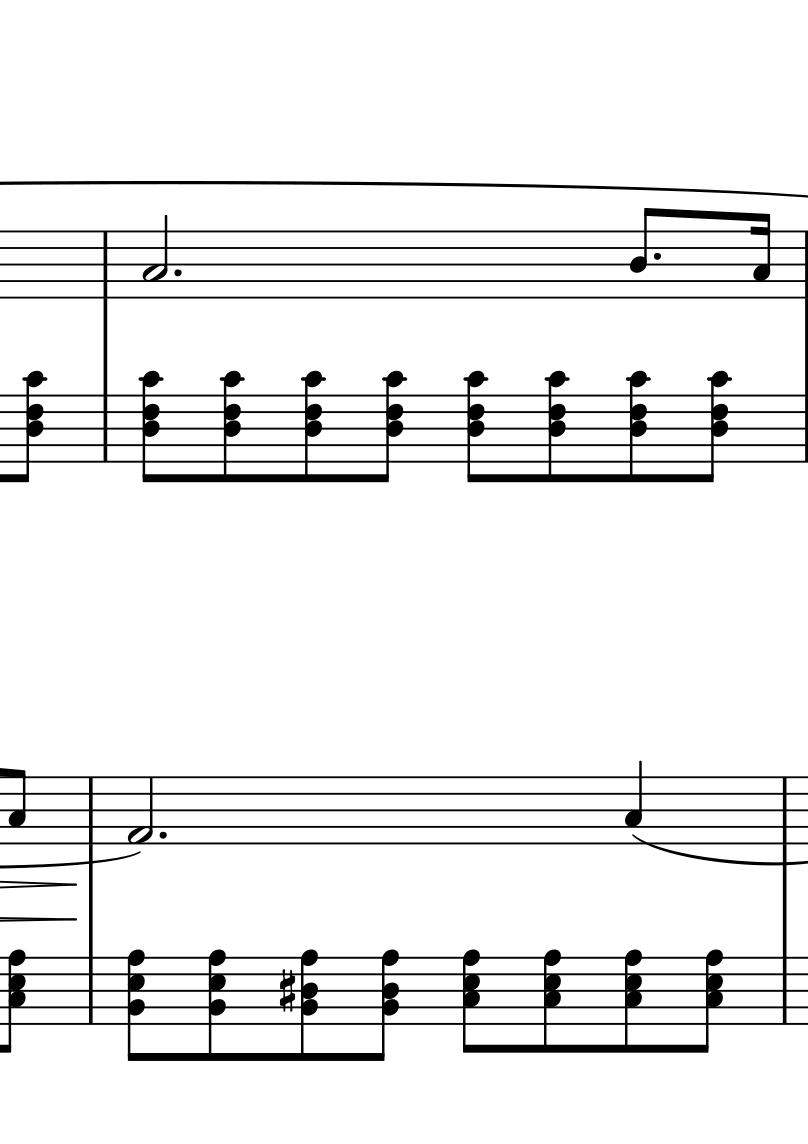16_3: (748, 211, 775, 300)
2_1: (128, 774, 157, 847)
2_3: (140, 214, 169, 298)
4_3: (622, 758, 646, 847)
8_4: (628, 206, 658, 300)
8_th: (9, 367, 49, 483), (700, 365, 735, 489), (297, 366, 333, 485), (690, 943, 726, 1058), (374, 366, 409, 483), (542, 367, 577, 482), (372, 947, 406, 1062), (461, 365, 493, 485), (622, 369, 655, 484), (216, 366, 248, 483), (206, 945, 234, 1064), (538, 946, 569, 1053), (619, 944, 648, 1057), (1, 947, 30, 1059), (459, 946, 488, 1056), (137, 369, 165, 482), (124, 949, 152, 1061), (298, 947, 321, 1064)
Sharp: (276, 969, 296, 1014)
Single_barline: (776, 777, 795, 860), (94, 232, 115, 299), (81, 956, 101, 1024), (81, 775, 100, 844), (96, 397, 115, 461), (776, 957, 794, 1024), (797, 231, 808, 298), (797, 397, 808, 462)
dot: (171, 266, 184, 280), (651, 250, 664, 263), (158, 828, 170, 841)
